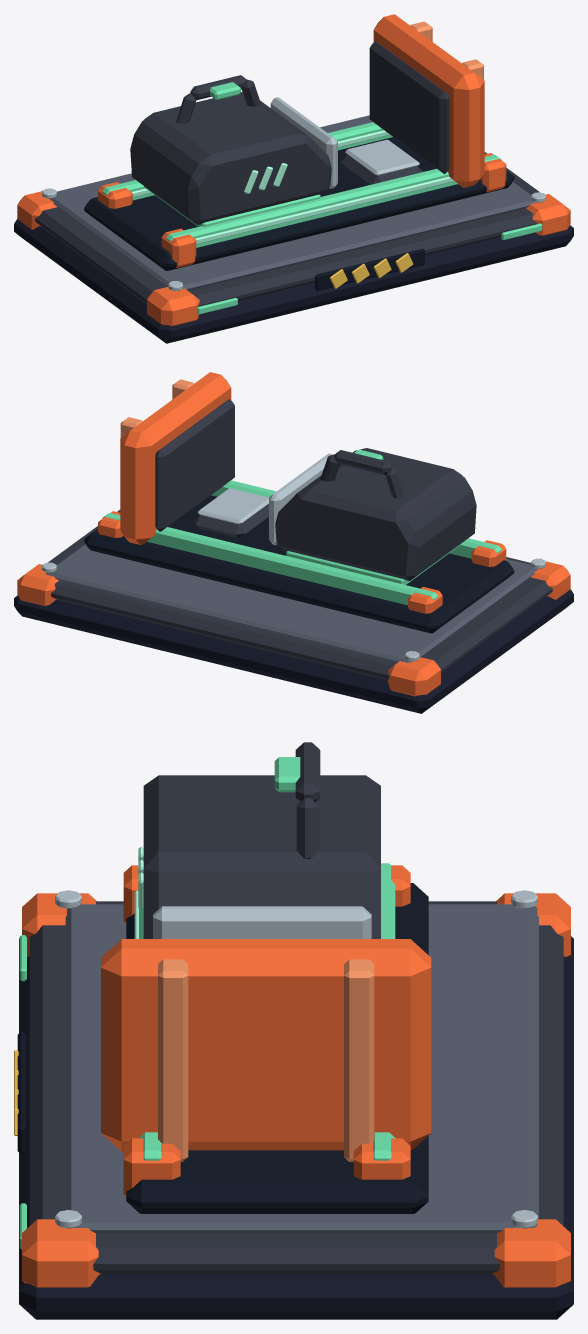
File: MaglevMauler.fbx
3 renders of one model, top to bottom at view 1: azimuth 30°, elevation 25°; view 2: azimuth 150°, elevation 25°; view 3: azimuth 270°, elevation 25°, orthographic. The views are drawn at different scales.
Visible parts, largest first — view 1: Frame, Sled; view 2: Frame, Sled; view 3: Frame, Sled.
Boxes of the visible parts, box(x1,y1,x2,y2) form: Frame: box(14, 14, 573, 343); Sled: box(130, 75, 337, 226); Frame: box(14, 372, 573, 713); Sled: box(269, 448, 476, 584); Frame: box(14, 863, 573, 1319); Sled: box(138, 742, 380, 938).
Bounding box in the file's own units: 456 × 185 × 295.
1 material, 1 textured.
